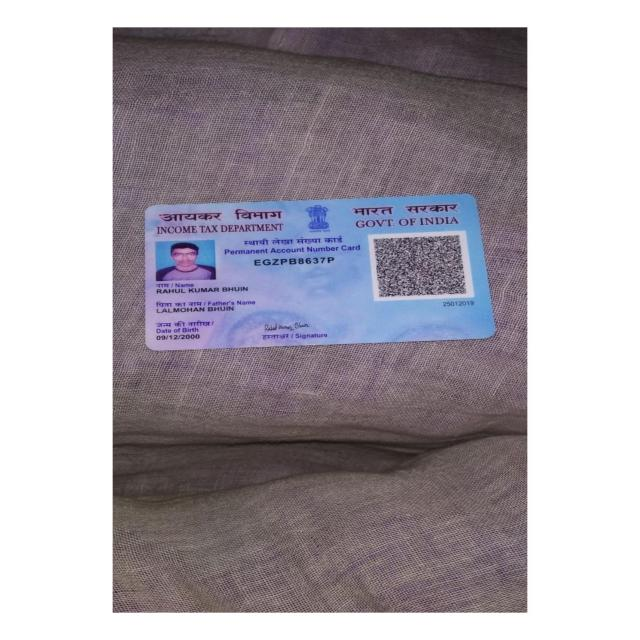pan_card: (146, 194, 496, 352)
